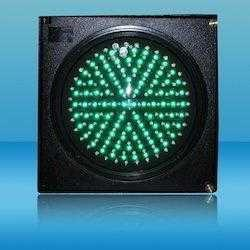red: (50, 23, 210, 185)
